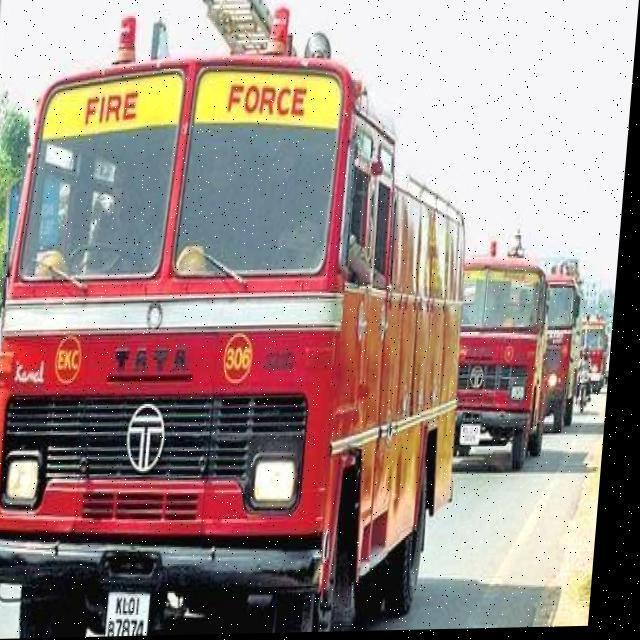Ambulance: (0, 0, 494, 636), (0, 379, 613, 636), (378, 382, 612, 629), (452, 231, 566, 476), (540, 260, 594, 438)
